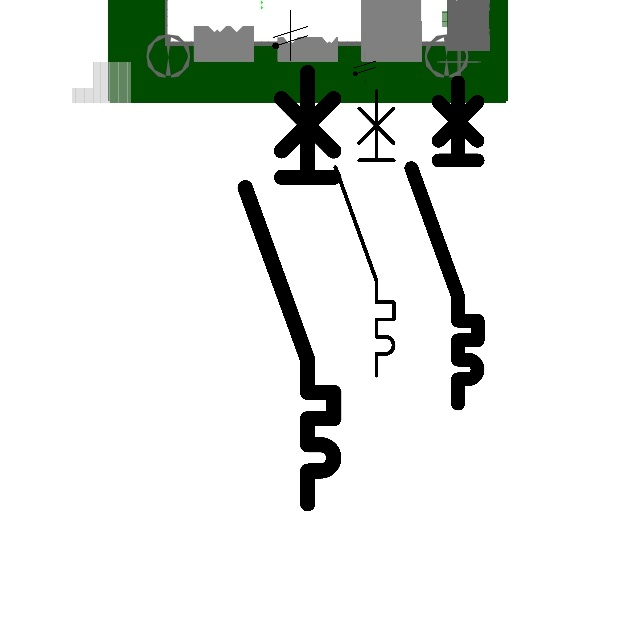interruptor_termomagnetico: (234, 61, 345, 514), (403, 74, 486, 412), (328, 83, 401, 382)
